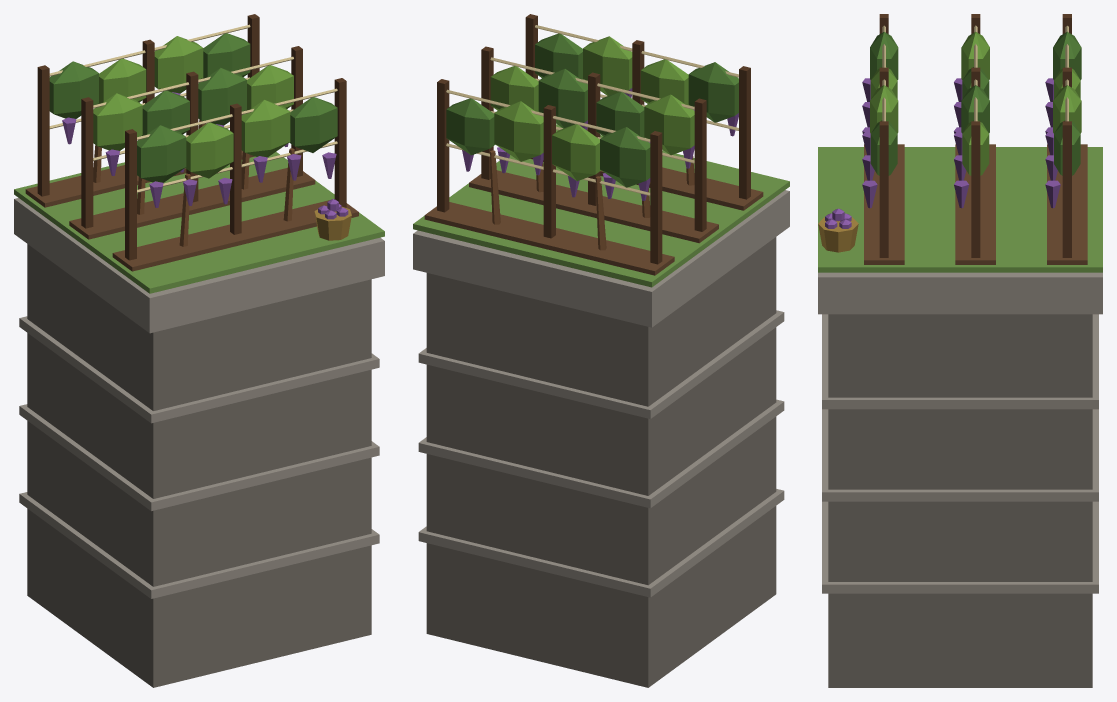
The model's file is decor_grape_trellis.glb.
3 renders of one model, left to right at view 1: azimuth 30°, elevation 25°; view 2: azimuth 150°, elevation 25°; view 3: azimuth 270°, elevation 25°, orthographic. The views are drawn at different scales.
Parts seen in each view (by area): view 1: decor_grape_trellis; view 2: decor_grape_trellis; view 3: decor_grape_trellis.
Part boxes in pixels (<box>): decor_grape_trellis: <box>14,14,384,687</box>; decor_grape_trellis: <box>413,14,789,687</box>; decor_grape_trellis: <box>818,14,1102,687</box>.
Size of the model in its own units: 2.8 by 6.1 by 2.8.
